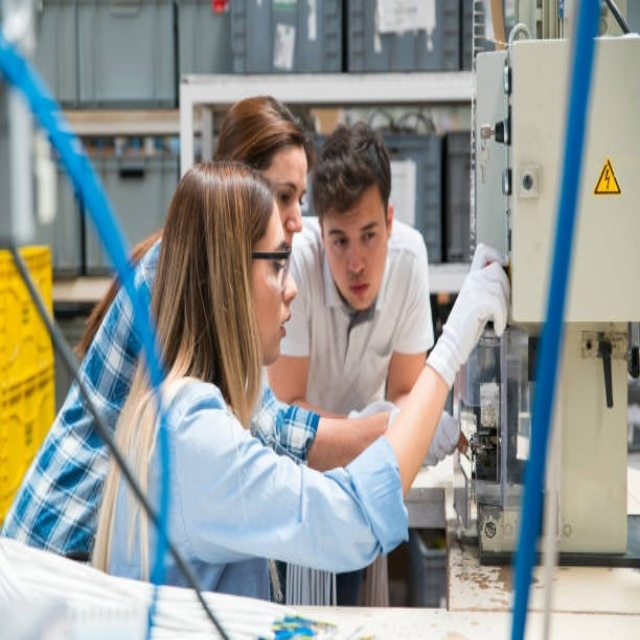Gafas: (251, 246, 294, 291)
Guantes: (428, 238, 511, 389), (413, 406, 464, 477)
Sin_gafas: (329, 209, 388, 253), (274, 176, 310, 207)
Sin_mascara: (254, 303, 294, 362), (344, 271, 373, 309)
